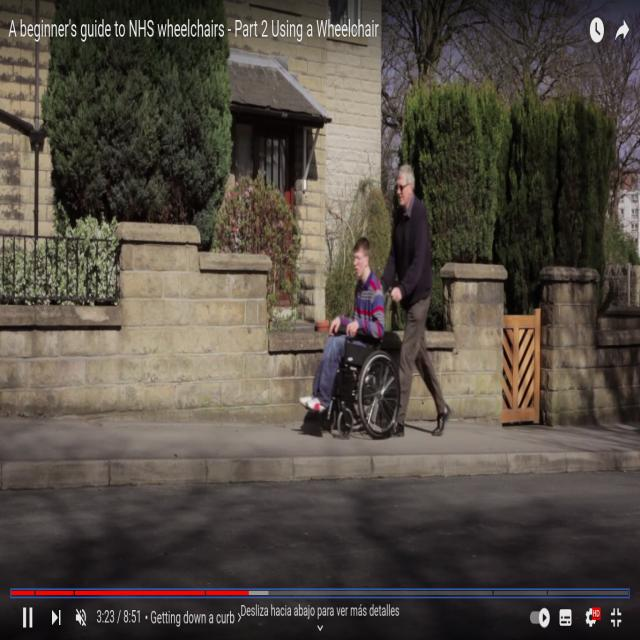wheelchairs: (314, 296, 401, 446)
